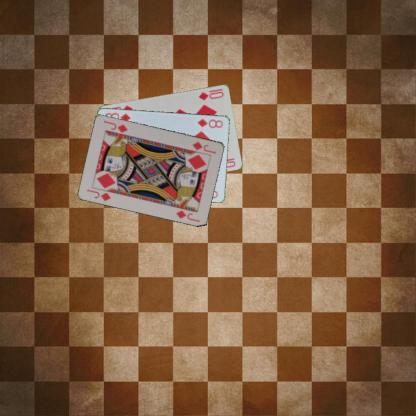10d: (196, 86, 225, 101)
8d: (195, 116, 224, 130)
Jd: (190, 139, 217, 156), (84, 186, 112, 202)
